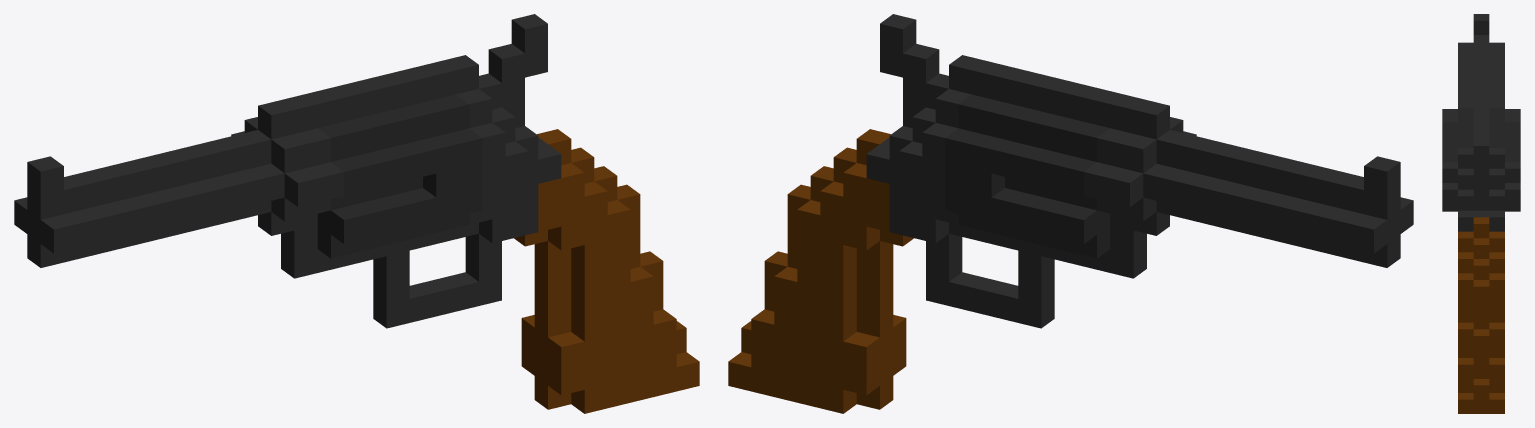
File: coltsaa.obj
The picture shows the model from 3 angles, left to right: view 1: azimuth 30°, elevation 25°; view 2: azimuth 150°, elevation 25°; view 3: azimuth 270°, elevation 25°; orthographic projection. The views are drawn at different scales.
Size of the model in its own units: 2.8 by 1.6 by 0.5.
1 material, 1 textured.
